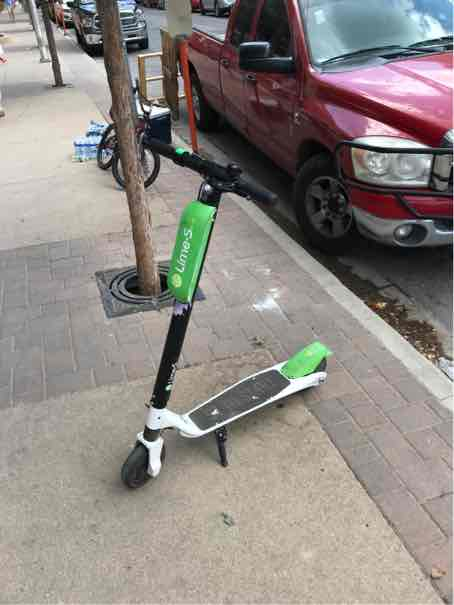scooter: (111, 149, 334, 506)
